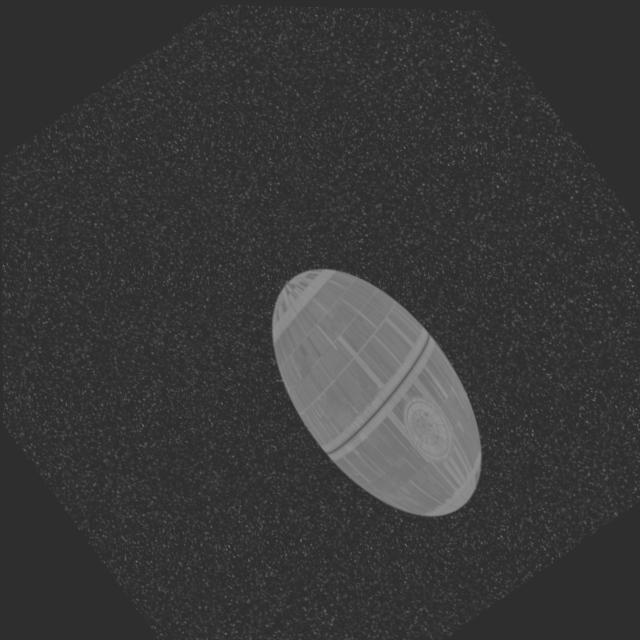death-stars: (270, 264, 480, 513)
